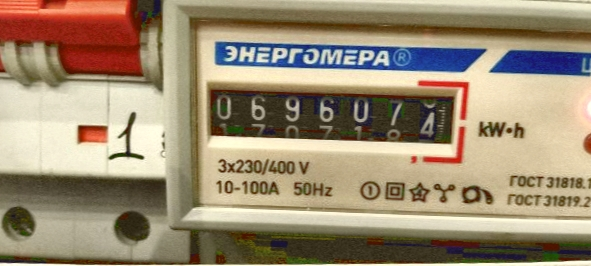0: (211, 89, 232, 119), (347, 94, 368, 121)
4: (415, 108, 434, 137)
6: (314, 92, 334, 121), (245, 92, 264, 119)
7: (382, 95, 402, 126)
9: (279, 93, 298, 122)
screen: (189, 66, 471, 163)
